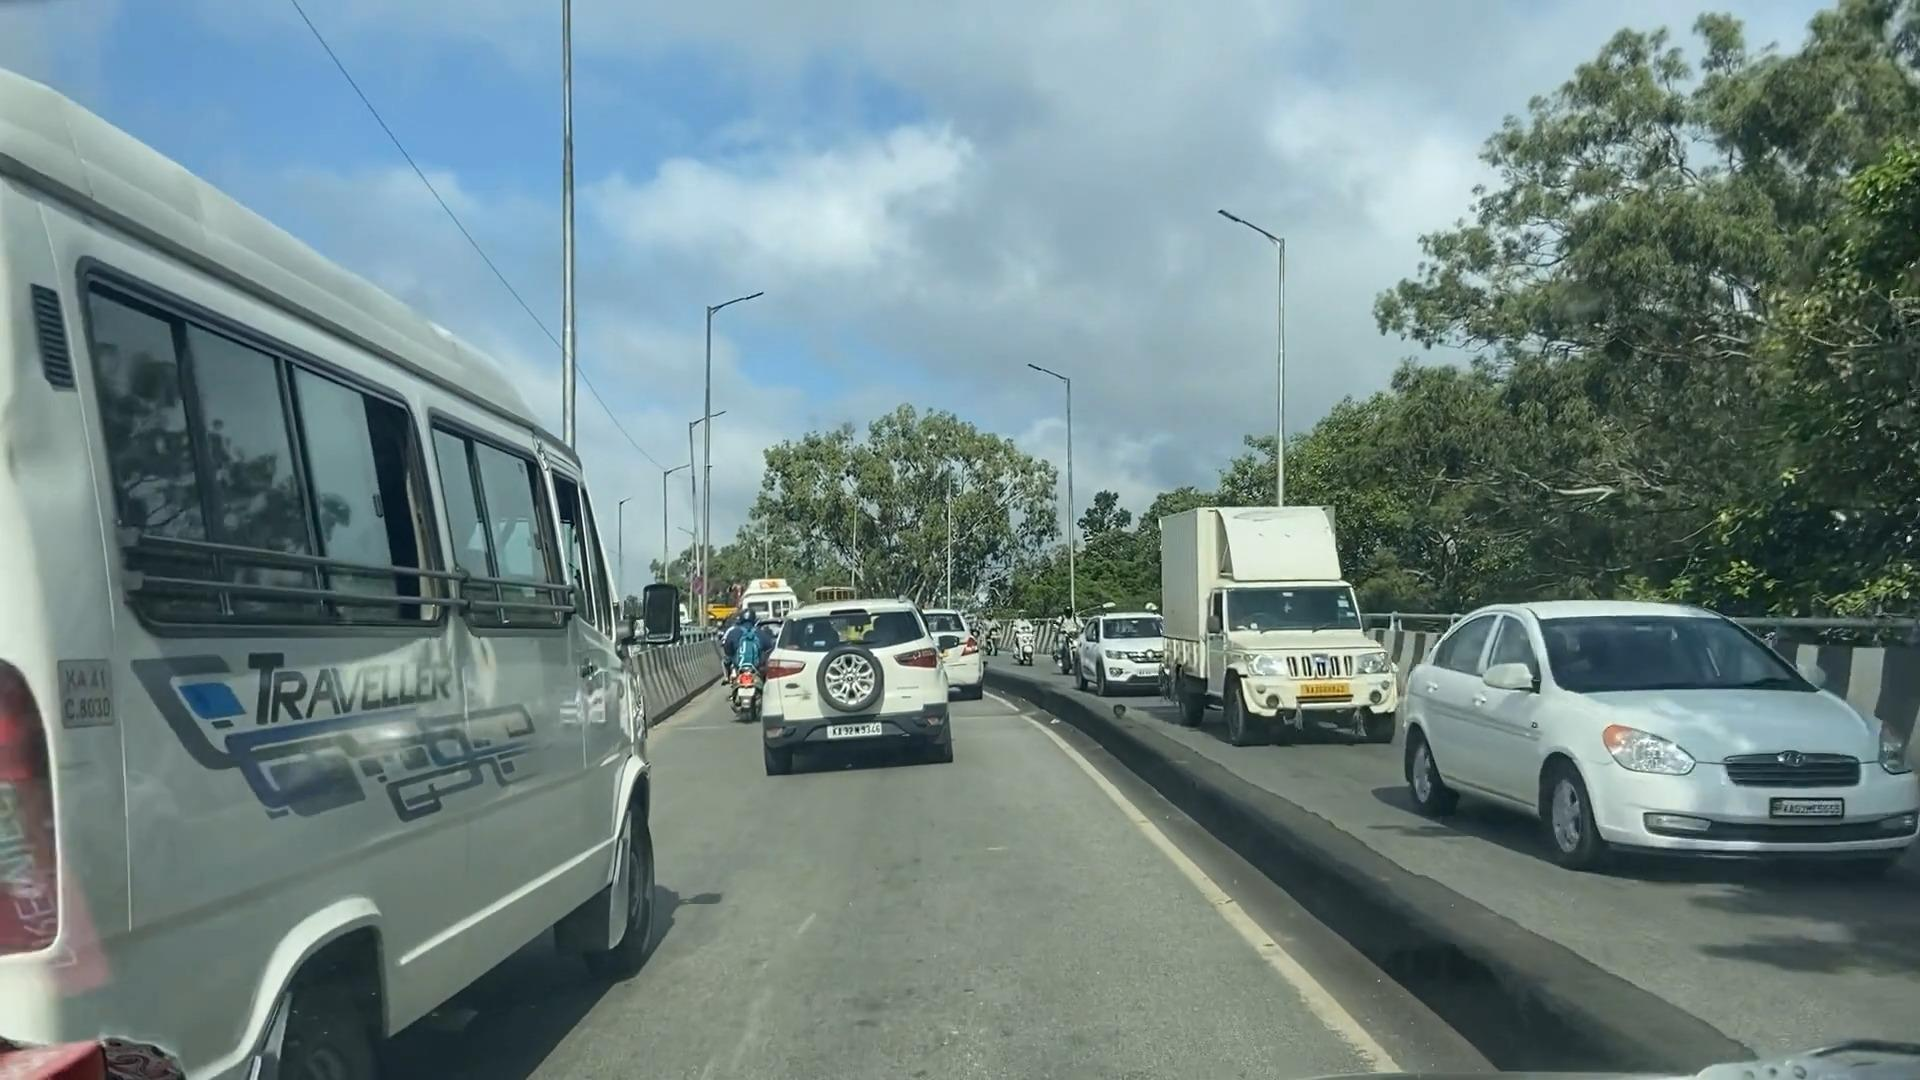LMV: (762, 600, 952, 752)
